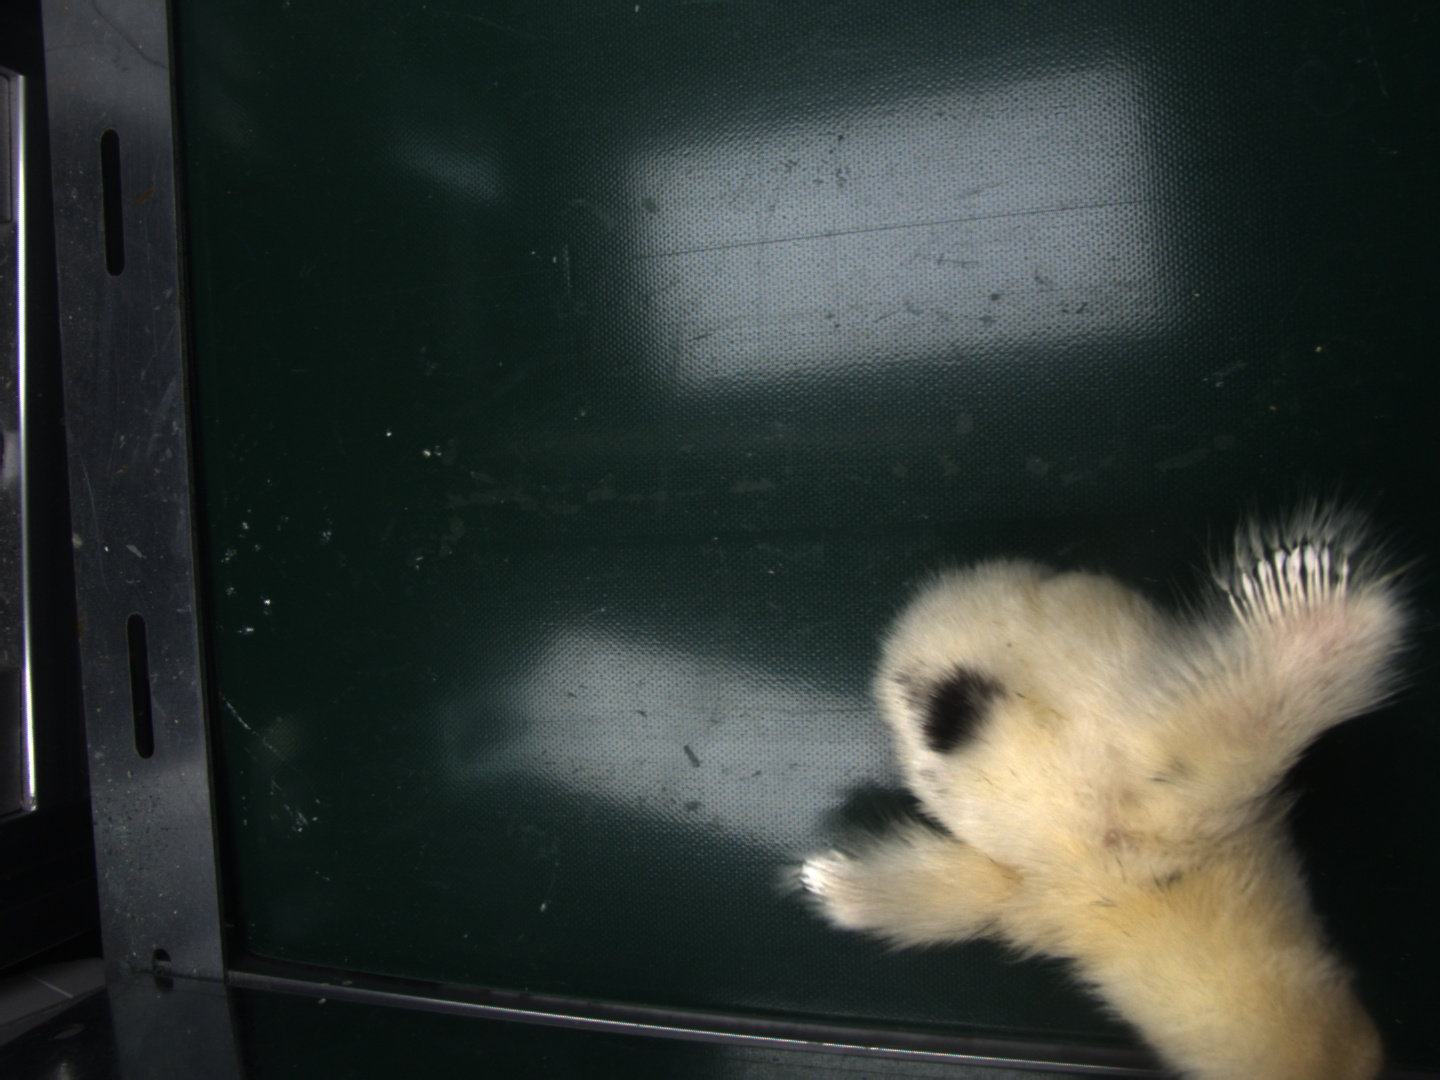male: (1225, 542, 1352, 628)
